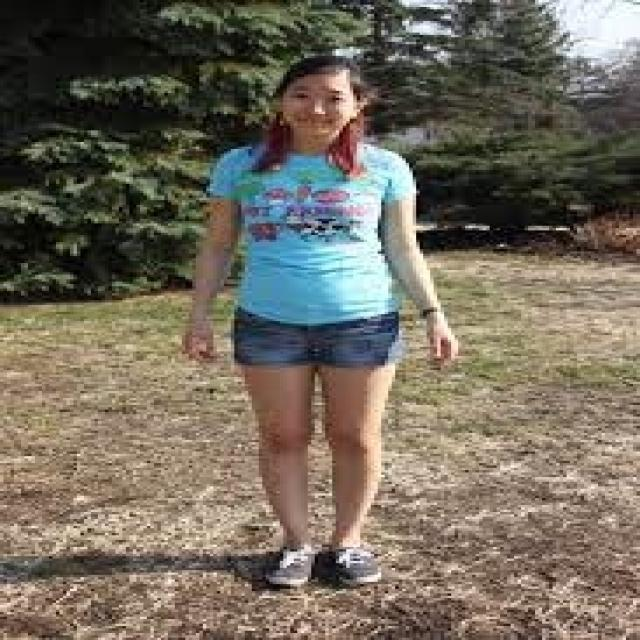walking: (152, 56, 474, 592)
